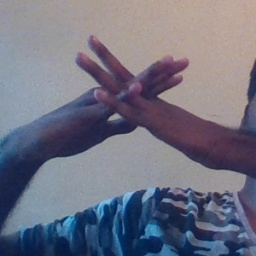W: (65, 28, 193, 161)
